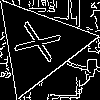X: (14, 20, 71, 68)
